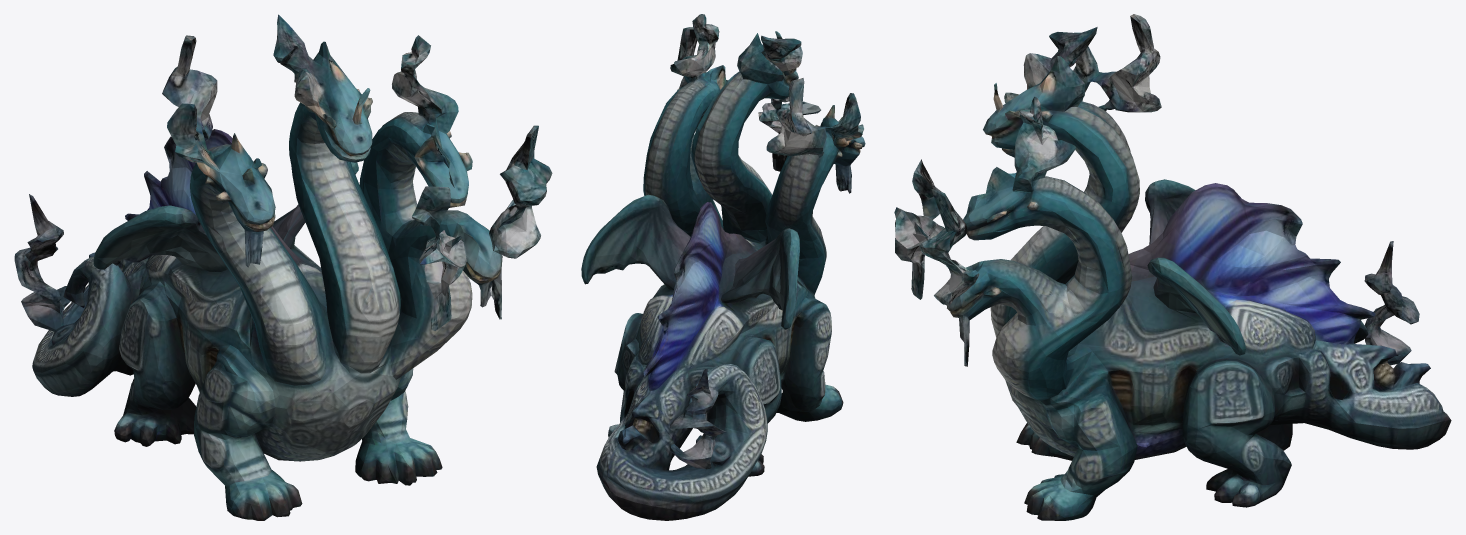
The model's file is smolderhead__steamhead.glb.
The picture shows the model from 3 angles, left to right: view 1: azimuth 30°, elevation 25°; view 2: azimuth 150°, elevation 25°; view 3: azimuth 270°, elevation 25°; orthographic projection. The views are drawn at different scales.
Parts seen in each view (by area): view 1: world; view 2: world; view 3: world.
Part boxes in pixels (x1,y1,x2,y2): world: (14, 14, 552, 520); world: (581, 14, 865, 520); world: (894, 14, 1451, 520).
Bounding box in the file's own units: 0.5752 × 0.848 × 0.9615.
Materials: 1 (1 with a texture image).
